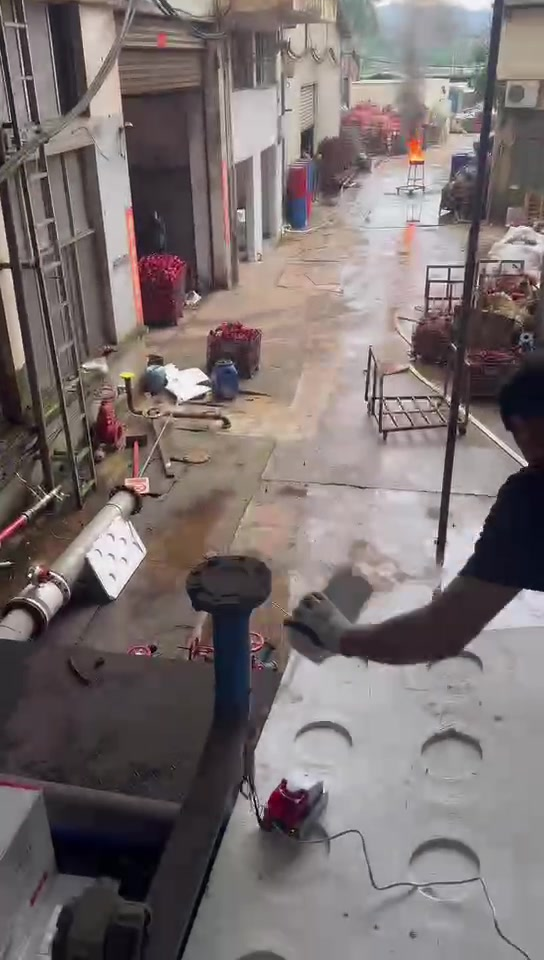fire: (408, 136, 422, 162)
